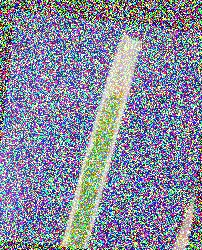Leaf_Blast: (63, 30, 132, 250)
